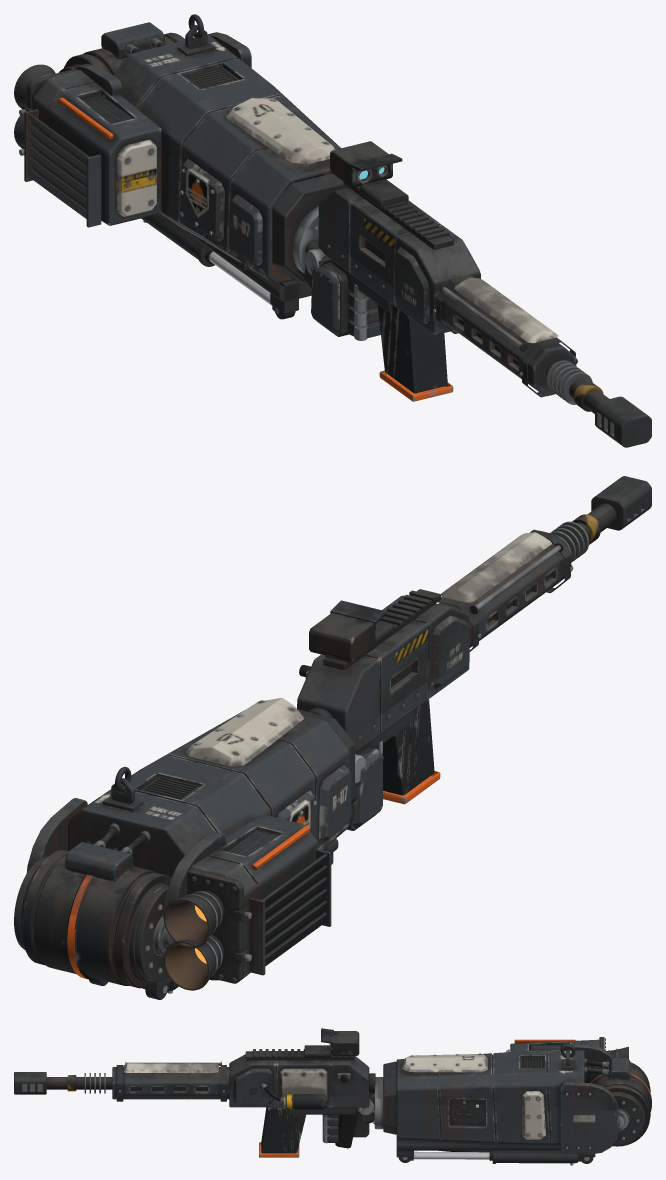
File: SM_sample.fbx
The picture shows the model from 3 angles, top to bottom: view 1: azimuth 30°, elevation 25°; view 2: azimuth 150°, elevation 25°; view 3: azimuth 270°, elevation 25°; orthographic projection. The views are drawn at different scales.
Visible parts, largest first — view 1: forearm_R_geo, weapon_R_geo, booster_R_geo, hand_R_geo, nozzle_R_0_geo; view 2: forearm_R_geo, weapon_R_geo, booster_R_geo, nozzle_R_0_geo, nozzle_R_1_geo, hand_R_geo; view 3: forearm_R_geo, weapon_R_geo, hand_R_geo, booster_R_geo.
Part boxes in pixels (x1,y1,x2,y2): forearm_R_geo: (59, 14, 348, 319); weapon_R_geo: (318, 141, 651, 447); booster_R_geo: (24, 68, 161, 227); hand_R_geo: (298, 239, 380, 340); nozzle_R_0_geo: (14, 64, 55, 116); forearm_R_geo: (14, 698, 355, 999); weapon_R_geo: (297, 476, 651, 804); booster_R_geo: (187, 814, 331, 983); nozzle_R_0_geo: (164, 890, 251, 948); nozzle_R_1_geo: (164, 934, 251, 990); hand_R_geo: (347, 740, 383, 830); forearm_R_geo: (373, 1043, 651, 1165); weapon_R_geo: (14, 1028, 375, 1157); hand_R_geo: (322, 1093, 374, 1143); booster_R_geo: (506, 1037, 605, 1082).
Bounding box in the file's own units: 1.3 × 1.24 × 5.84.
Materials: 2 (2 with a texture image).
